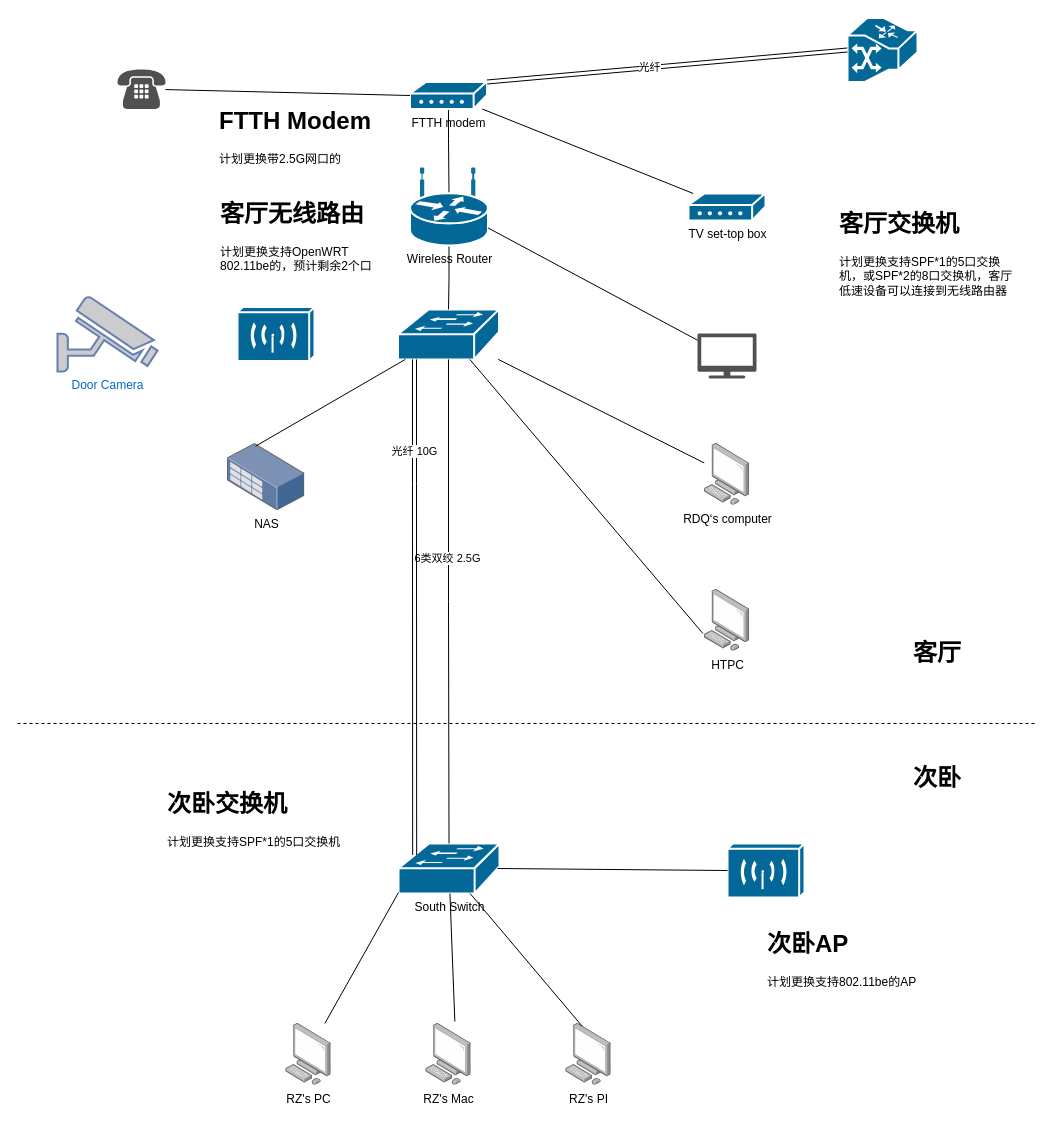
Some shapes in this 1056 by 1124 pixel diagram are drawn without their labels. The centre of each missing label's shape, as x and y in pixels:
North Switch: the point at 448,334
TV: the point at 726,355
Wireless AP: the point at 765,870
Wireless AP For IoT: the point at 275,334
客厅固话: the point at 141,88
